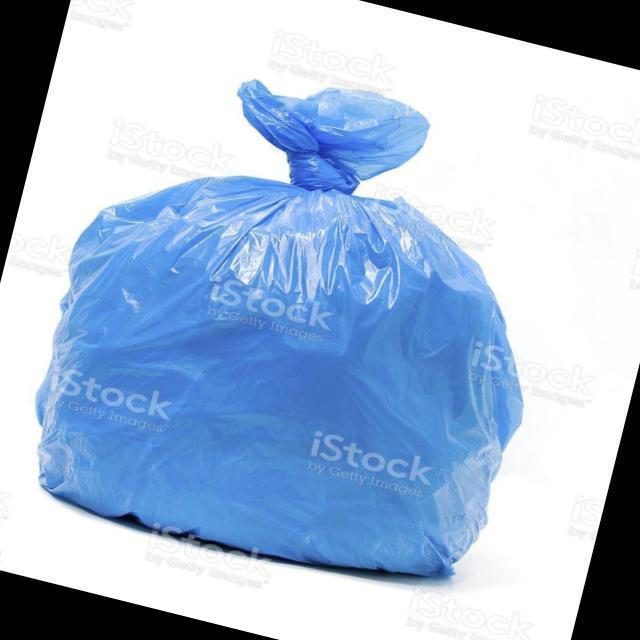Garbage_Bag: (20, 36, 582, 607)
